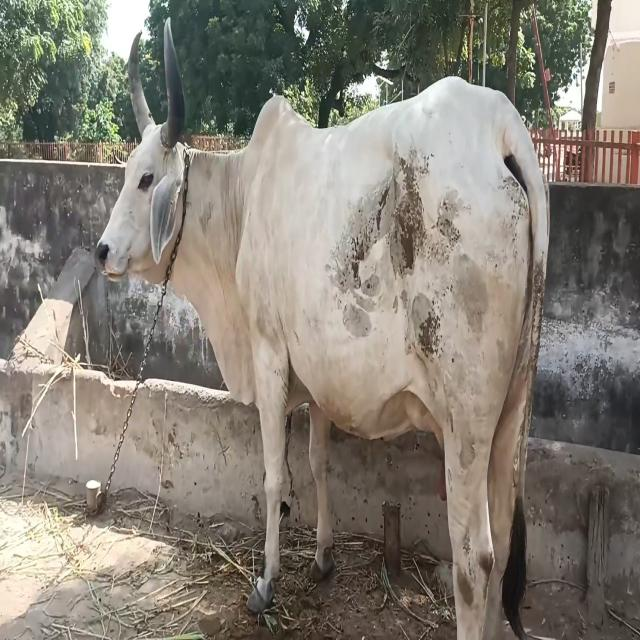Breed: (91, 26, 551, 640)
